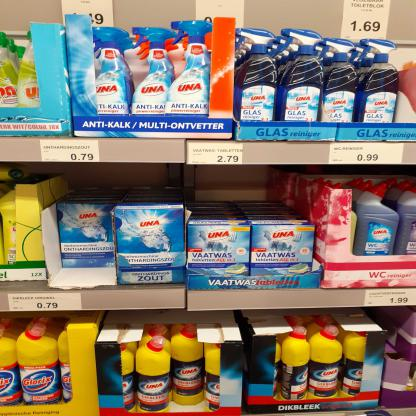prtg: (329, 144, 405, 165), (8, 293, 83, 312), (40, 141, 100, 163), (189, 144, 244, 166), (365, 289, 416, 308)
